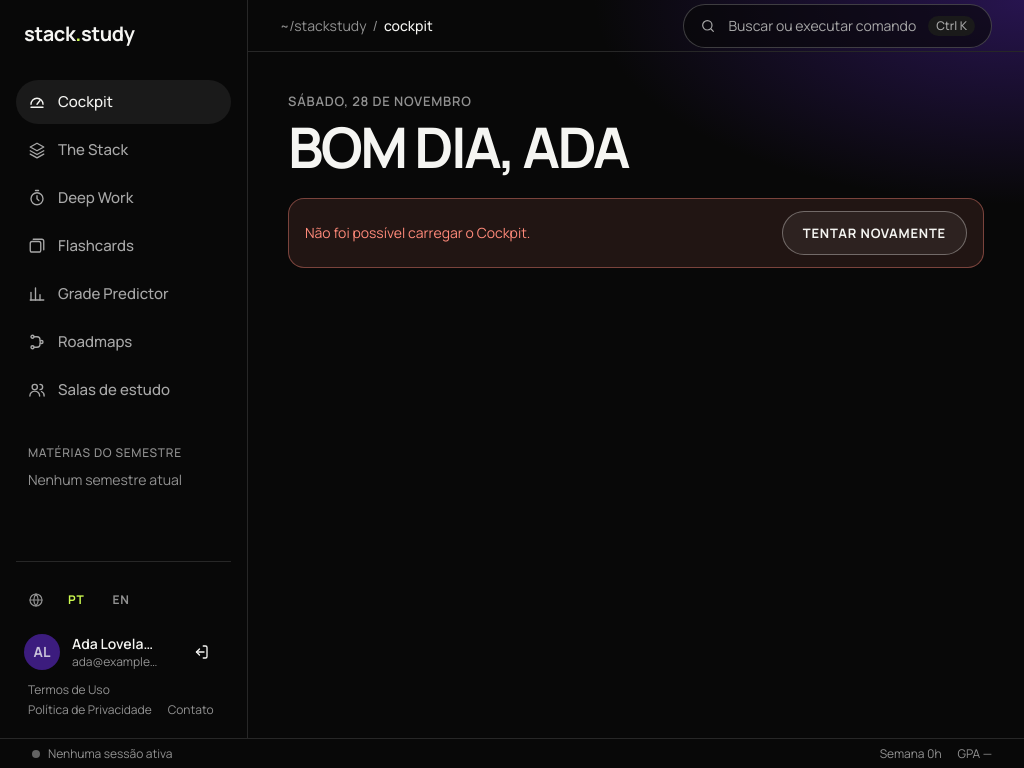
it: auth flow (UI) › command palette opens with Ctrl+K and navigates
Check: the heading "Bom dia, Ada" is shown, box x1=288 y1=120 x2=628 y2=174
Step 1. Type keys "{Control>}k{/Control}"
(page scrolled)
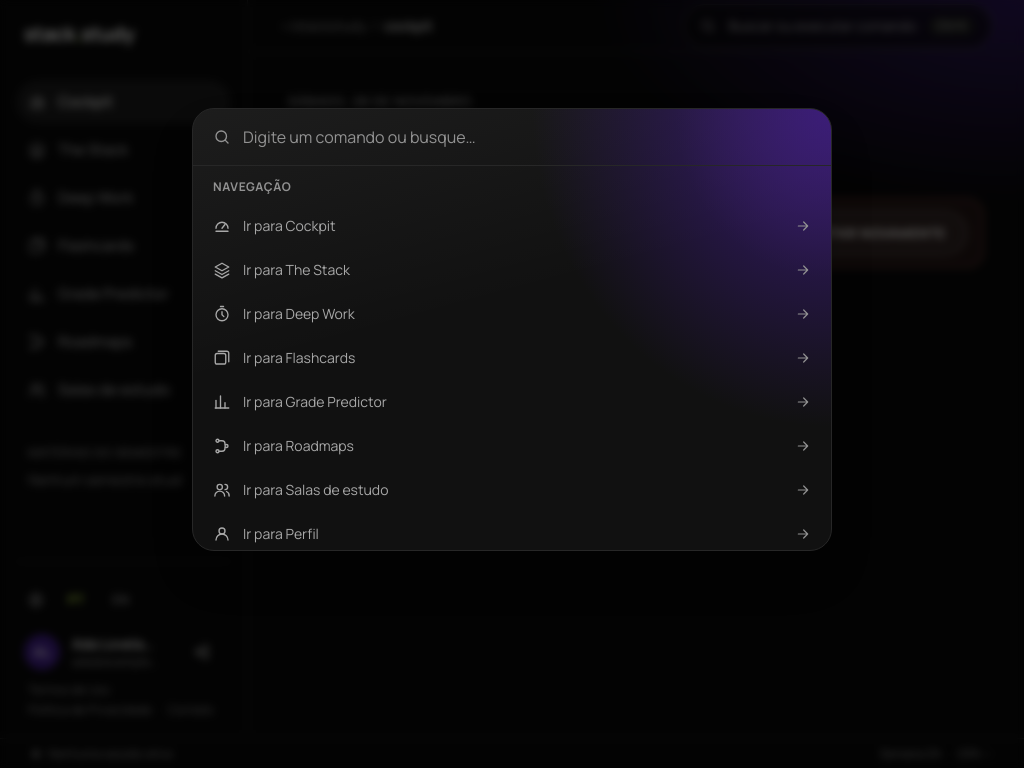
Step 2. Click the option "Ir para Flashcards" → point(299, 357), box x1=213 y1=348 x2=811 y2=366
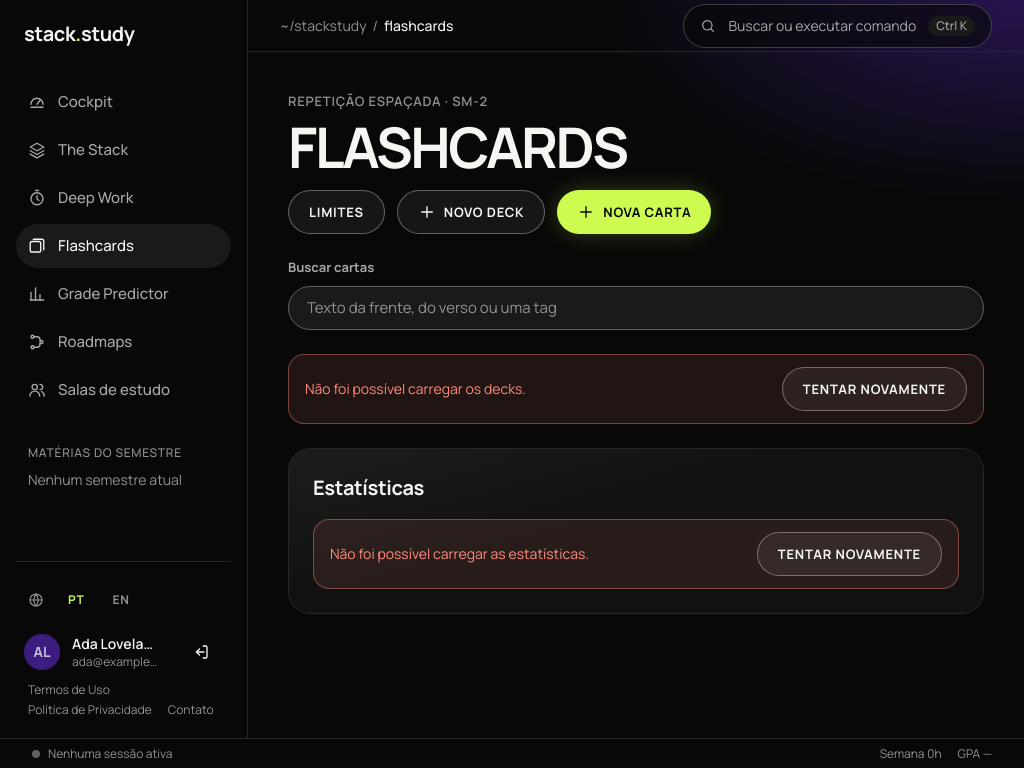
Check: the heading "Flashcards" is shown, box x1=288 y1=120 x2=626 y2=174
